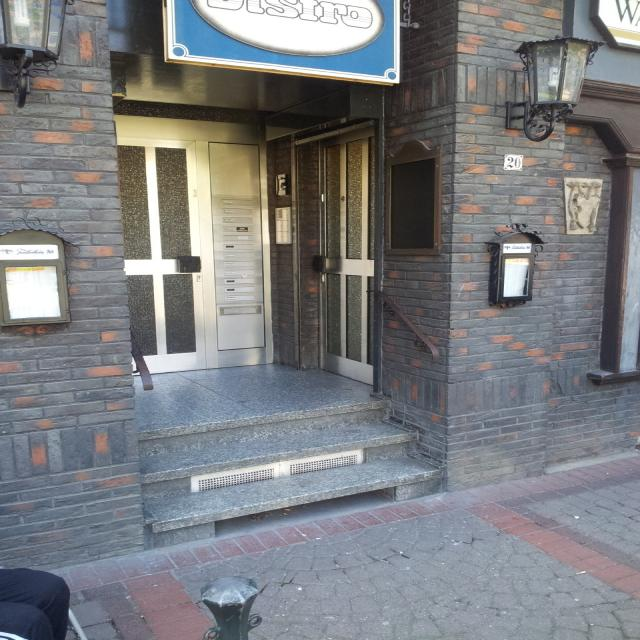AVOID: (136, 399, 452, 551)
